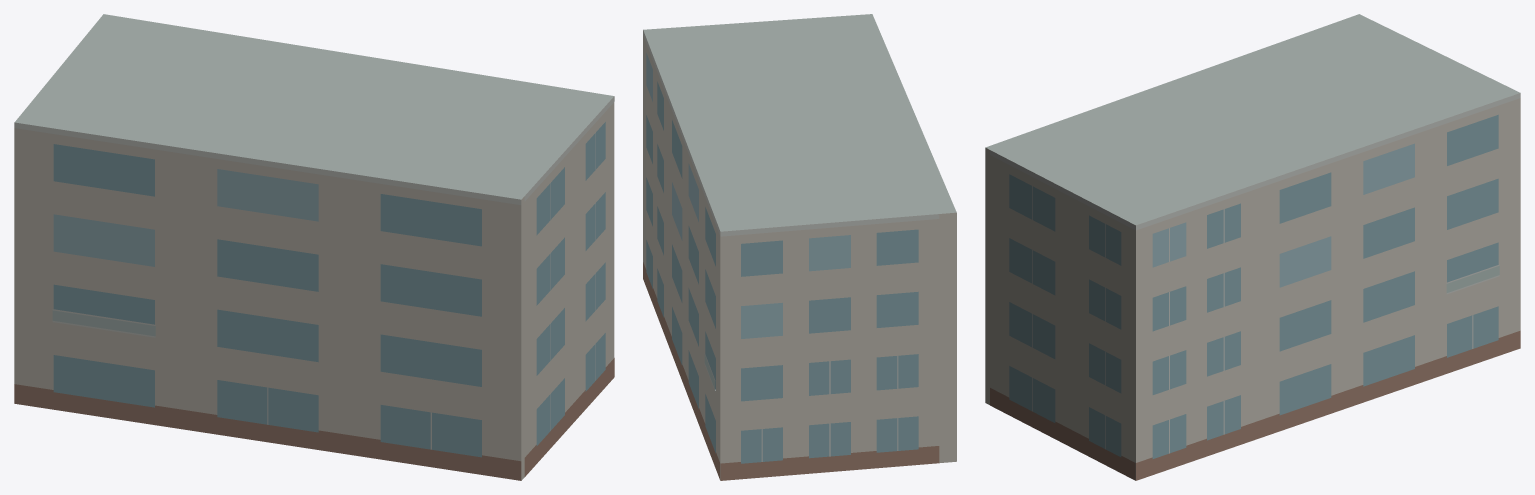
Rendered from survey-upis-32726686.glb.
3 renders of one model, left to right at view 1: azimuth 30°, elevation 25°; view 2: azimuth 150°, elevation 25°; view 3: azimuth 270°, elevation 25°, orthographic. The views are drawn at different scales.
Parts seen in each view (by area): view 1: survey-upis-32726686.tmp; view 2: survey-upis-32726686.tmp; view 3: survey-upis-32726686.tmp.
Part boxes in pixels (x1,y1,x2,y2): survey-upis-32726686.tmp: (14, 14, 614, 480); survey-upis-32726686.tmp: (643, 14, 956, 480); survey-upis-32726686.tmp: (985, 14, 1520, 480).
Size of the model in its own units: 21.84 by 12.3 by 23.37.
